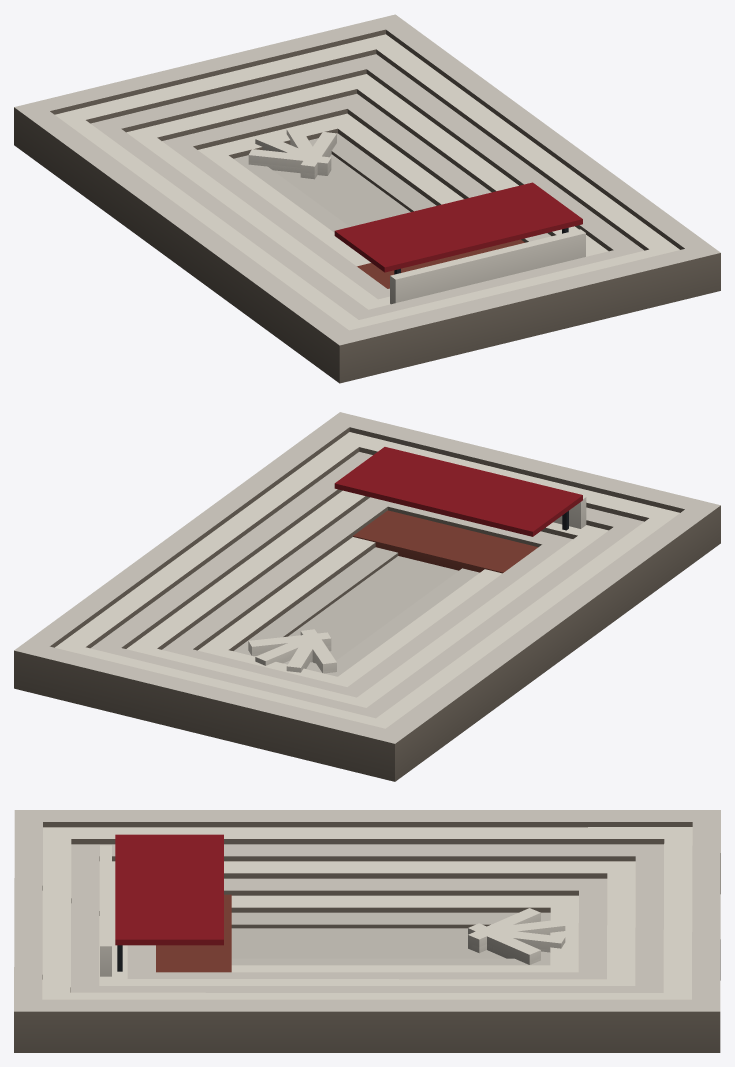
Rendered from open_air_theatre.glb.
3 views of the same model, one above another, from view 1: azimuth 30°, elevation 25°; view 2: azimuth 150°, elevation 25°; view 3: azimuth 270°, elevation 25° (orthographic). The views are drawn at different scales.
Parts seen in each view (by area): view 1: LOD0_High_ConcreteMuted, LOD0_High_StuccoWarmTrim, LOD0_High_StackedStone, LOD0_High_CrimsonFascia, LOD1_Medium_ConcreteMuted, LOD1_Medium_StuccoWarmTrim, LOD0_High_RedGranite; view 2: LOD0_High_ConcreteMuted, LOD0_High_StackedStone, LOD0_High_StuccoWarmTrim, LOD0_High_CrimsonFascia, LOD0_High_RedGranite, LOD1_Medium_StuccoWarmTrim, LOD1_Medium_ConcreteMuted; view 3: LOD0_High_ConcreteMuted, LOD0_High_StackedStone, LOD0_High_StuccoWarmTrim, LOD0_High_CrimsonFascia, LOD1_Medium_ConcreteMuted, LOD1_Medium_StuccoWarmTrim, LOD0_High_RedGranite.
Part boxes in pixels (box(x1,y1,x2,y2)): LOD0_High_ConcreteMuted: box(14, 14, 720, 345); LOD0_High_StuccoWarmTrim: box(55, 34, 679, 330); LOD0_High_StackedStone: box(14, 29, 720, 383); LOD0_High_CrimsonFascia: box(334, 182, 582, 272); LOD1_Medium_ConcreteMuted: box(276, 154, 410, 226); LOD1_Medium_StuccoWarmTrim: box(248, 128, 336, 177); LOD0_High_RedGranite: box(357, 239, 524, 288); LOD0_High_ConcreteMuted: box(14, 412, 720, 743); LOD0_High_StackedStone: box(14, 427, 720, 781); LOD0_High_StuccoWarmTrim: box(55, 432, 679, 728); LOD0_High_CrimsonFascia: box(334, 447, 582, 536); LOD0_High_RedGranite: box(353, 510, 537, 573); LOD1_Medium_StuccoWarmTrim: box(248, 629, 336, 672); LOD1_Medium_ConcreteMuted: box(289, 556, 452, 662); LOD0_High_ConcreteMuted: box(14, 810, 720, 1011); LOD0_High_StackedStone: box(14, 822, 720, 1052); LOD0_High_StuccoWarmTrim: box(42, 827, 692, 999); LOD0_High_CrimsonFascia: box(115, 834, 223, 945); LOD1_Medium_ConcreteMuted: box(231, 928, 505, 958); LOD1_Medium_StuccoWarmTrim: box(468, 908, 565, 964); LOD0_High_RedGranite: box(156, 894, 231, 972).
Size of the model in its own units: 40.38 by 6.06 by 59.83.
